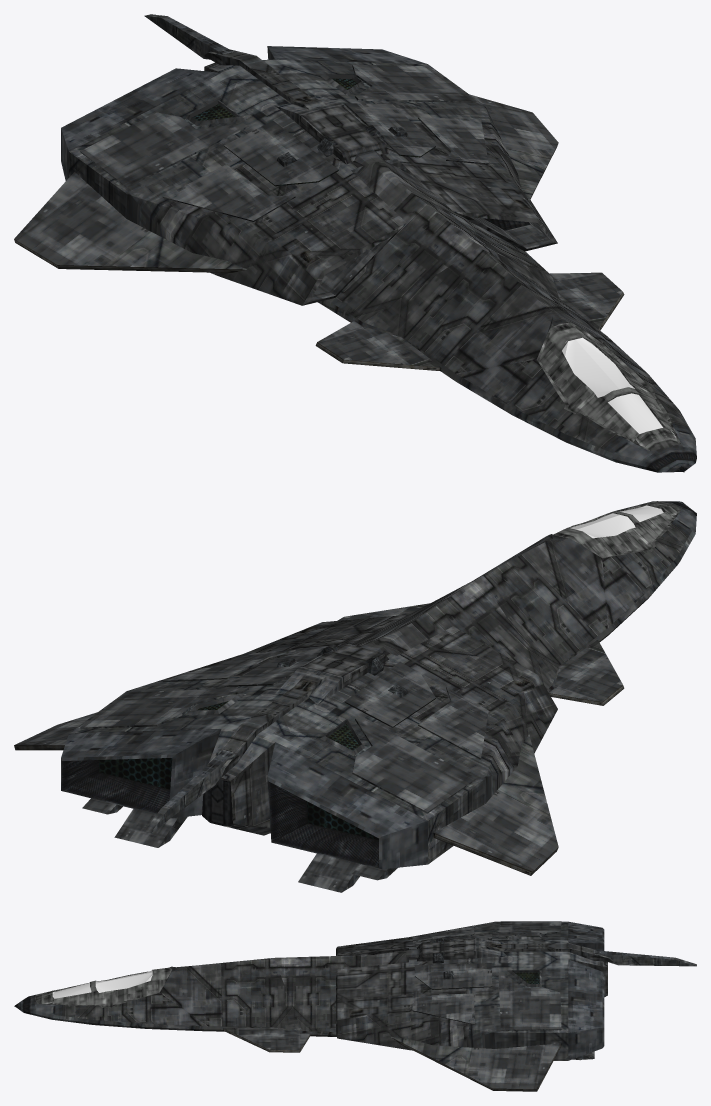
Rendered from 301 RV1 Conqueror.fbx.
3 renders of one model, top to bottom at view 1: azimuth 30°, elevation 25°; view 2: azimuth 150°, elevation 25°; view 3: azimuth 270°, elevation 25°, orthographic. The views are drawn at different scales.
Visible parts, largest first — view 1: Hull, Cockpit, Glass; view 2: Hull, Cockpit, Glass; view 3: Hull, Cockpit, Glass.
Boxes of the visible parts, x1,y1,x2,y2 form: Hull: [14, 14, 696, 472]; Cockpit: [537, 322, 680, 451]; Glass: [562, 337, 663, 433]; Hull: [14, 501, 696, 892]; Cockpit: [553, 501, 680, 558]; Glass: [570, 505, 663, 538]; Hull: [14, 921, 696, 1091]; Cockpit: [35, 967, 171, 1008]; Glass: [52, 970, 152, 998].
Bounding box in the file's own units: 363 × 88.53 × 651.
3 materials, 3 textured.
